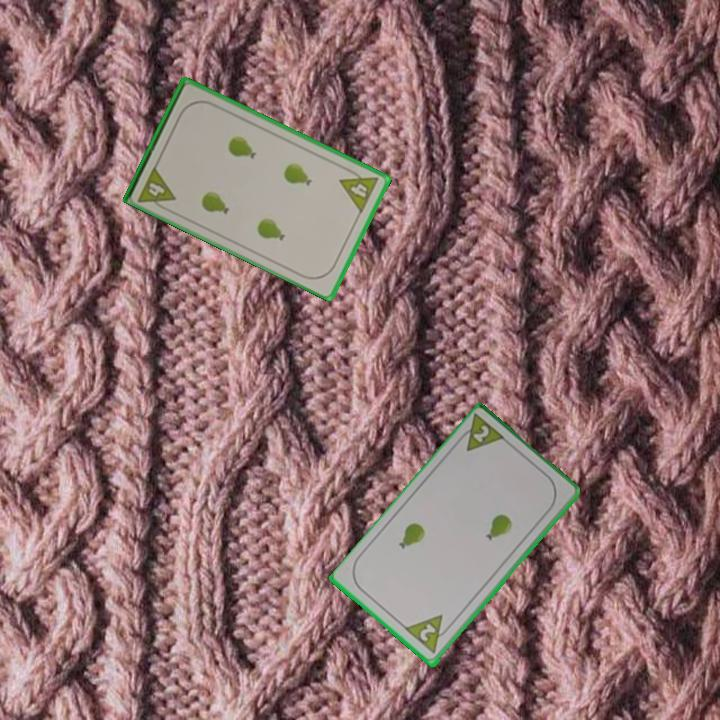2p: (453, 411, 509, 455), (402, 611, 455, 657)
4p: (336, 164, 382, 216), (134, 162, 178, 214)
